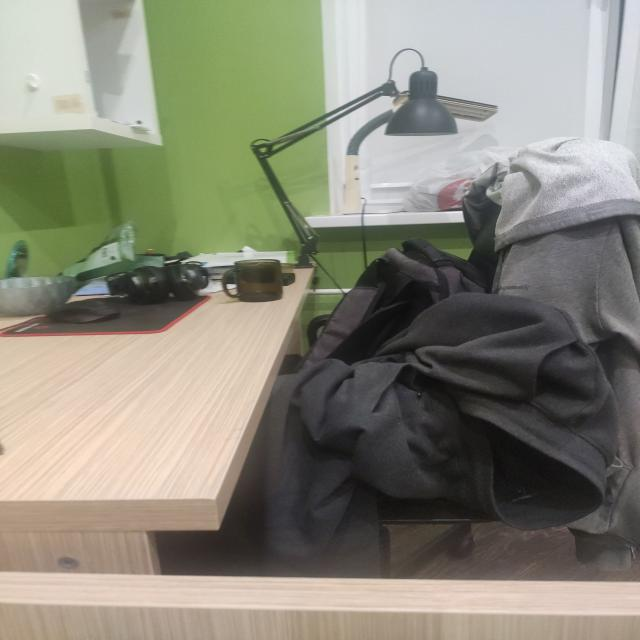cups: (221, 259, 283, 302)
